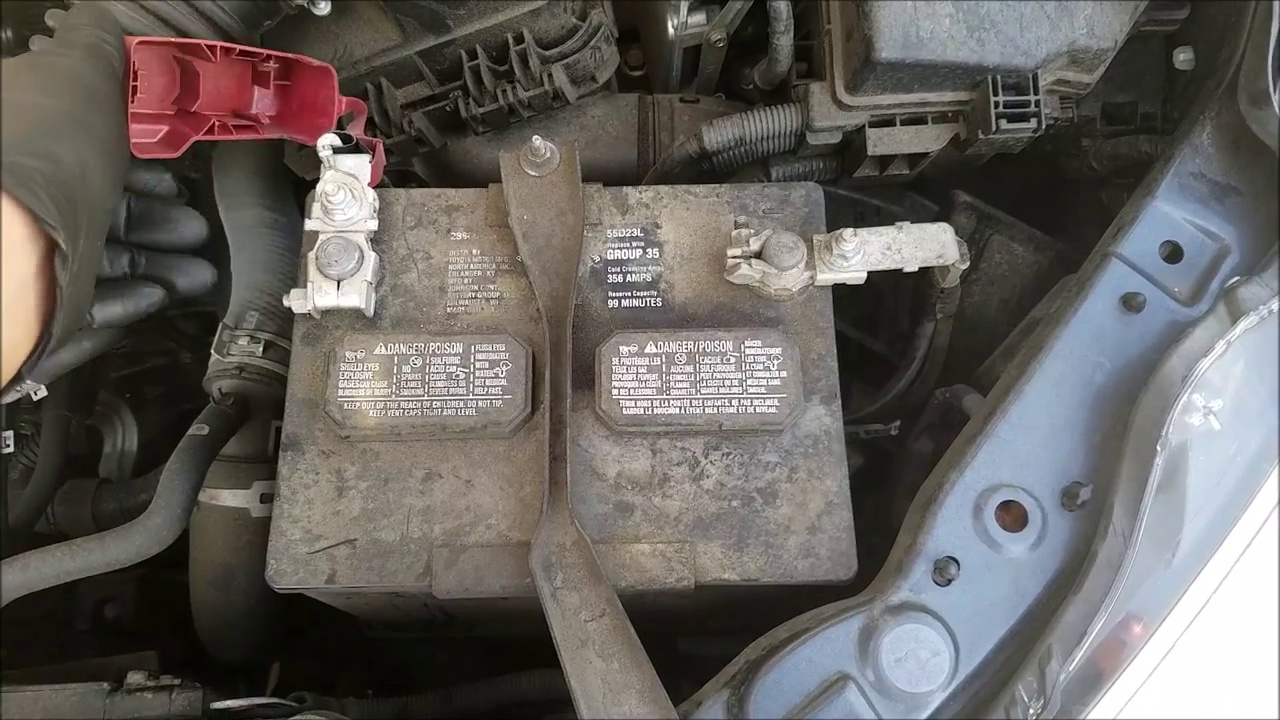battery: (276, 135, 893, 580)
neg_connected: (715, 195, 897, 309)
pos_connected: (269, 95, 405, 331)
